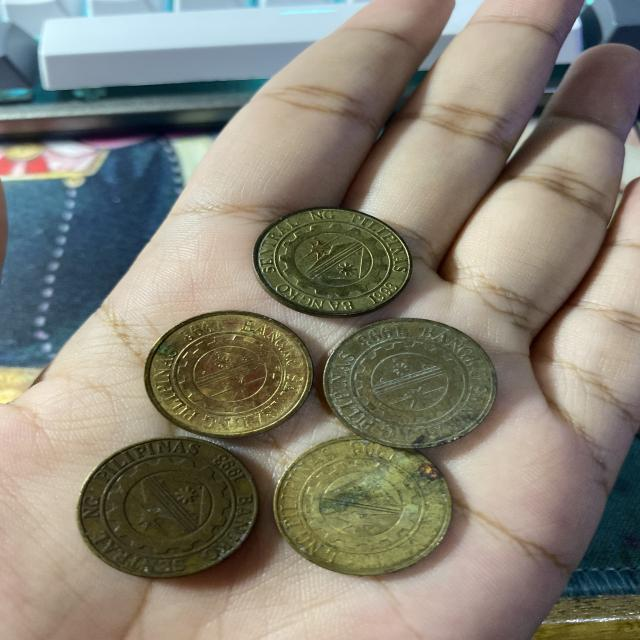25Cent_Old_Back: (282, 446, 450, 580), (81, 444, 258, 568), (324, 329, 493, 451), (153, 315, 308, 432), (254, 208, 400, 309)
